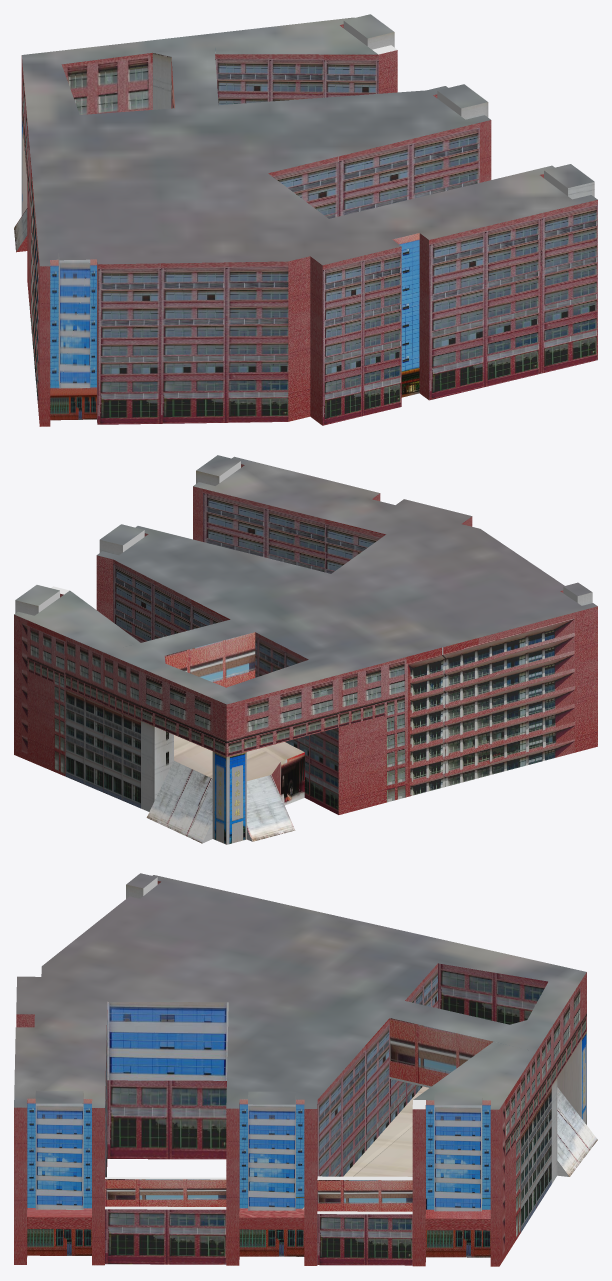
File: zhl.gltf
3 views of the same model, one above another, from view 1: azimuth 30°, elevation 25°; view 2: azimuth 150°, elevation 25°; view 3: azimuth 270°, elevation 25° (orthographic). The views are drawn at different scales.
Visible parts, largest first — view 1: Model#1; view 2: Model#1; view 3: Model#1.
Boxes of the visible parts, x1,y1,x2,y2 form: Model#1: (14,14,597,426); Model#1: (14,455,597,844); Model#1: (14,873,597,1266).
Bounding box in the file's own units: 0.1301 × 0.042 × 0.1347.
4 materials, 3 textured.
